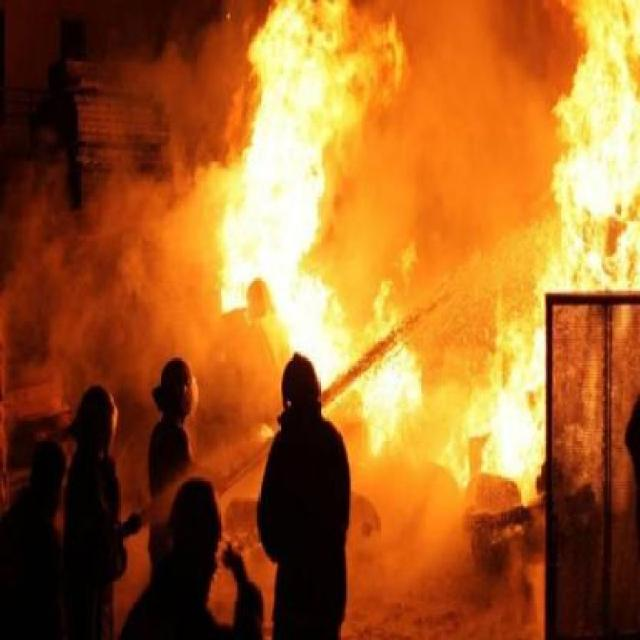Fire: (234, 6, 418, 462), (483, 2, 640, 506)
